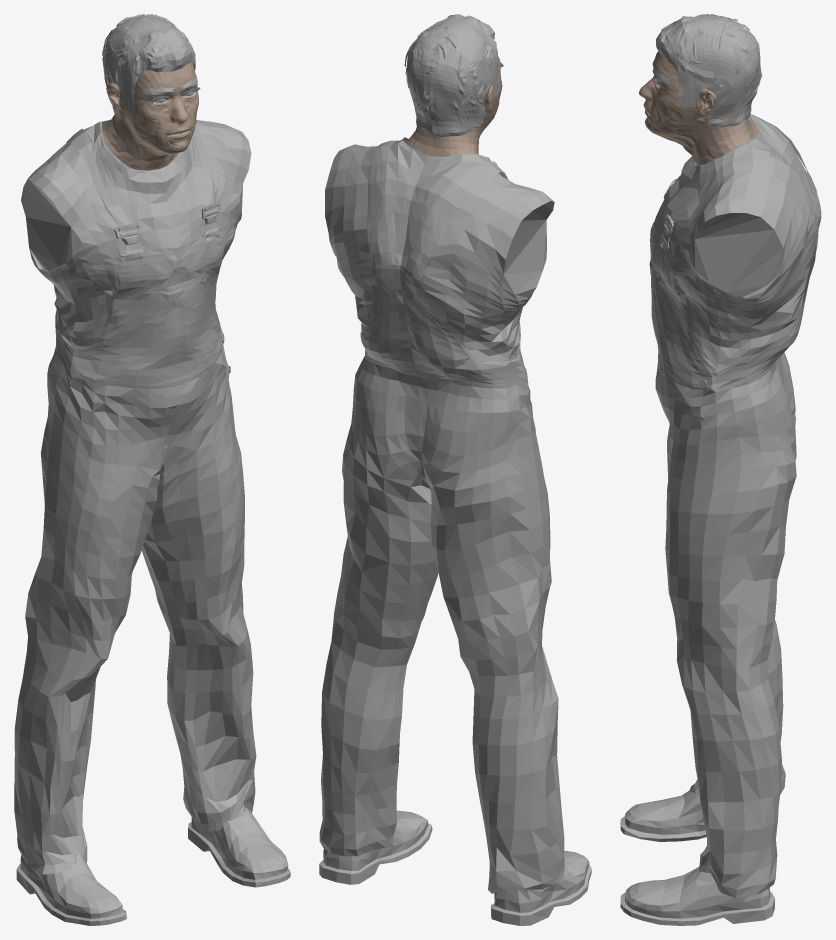
File: edited-Human_body_closed.dae
The picture shows the model from 3 angles, left to right: view 1: azimuth 30°, elevation 25°; view 2: azimuth 150°, elevation 25°; view 3: azimuth 270°, elevation 25°; orthographic projection.
Visible parts, largest first — view 1: human_20140307_worksuit, human_20140307_classic_shoes_lres, human_20140307_human_20140307, human_20140307_mhair02; view 2: human_20140307_worksuit, human_20140307_mhair02, human_20140307_classic_shoes_lres, human_20140307_human_20140307; view 3: human_20140307_worksuit, human_20140307_classic_shoes_lres, human_20140307_mhair02, human_20140307_human_20140307.
Part boxes in pixels (box(x1,y1,x2,y2)): human_20140307_worksuit: box(14, 119, 256, 874); human_20140307_classic_shoes_lres: box(16, 807, 290, 925); human_20140307_human_20140307: box(102, 62, 198, 170); human_20140307_mhair02: box(102, 14, 195, 119); human_20140307_worksuit: box(319, 137, 569, 893); human_20140307_mhair02: box(404, 14, 499, 137); human_20140307_classic_shoes_lres: box(319, 810, 591, 925); human_20140307_human_20140307: box(406, 56, 502, 156); human_20140307_worksuit: box(649, 114, 821, 897); human_20140307_classic_shoes_lres: box(620, 790, 774, 925); human_20140307_mhair02: box(656, 14, 762, 127); human_20140307_human_20140307: box(639, 51, 758, 165).
Size of the model in its own units: 0.4389 by 0.3391 by 1.59.
